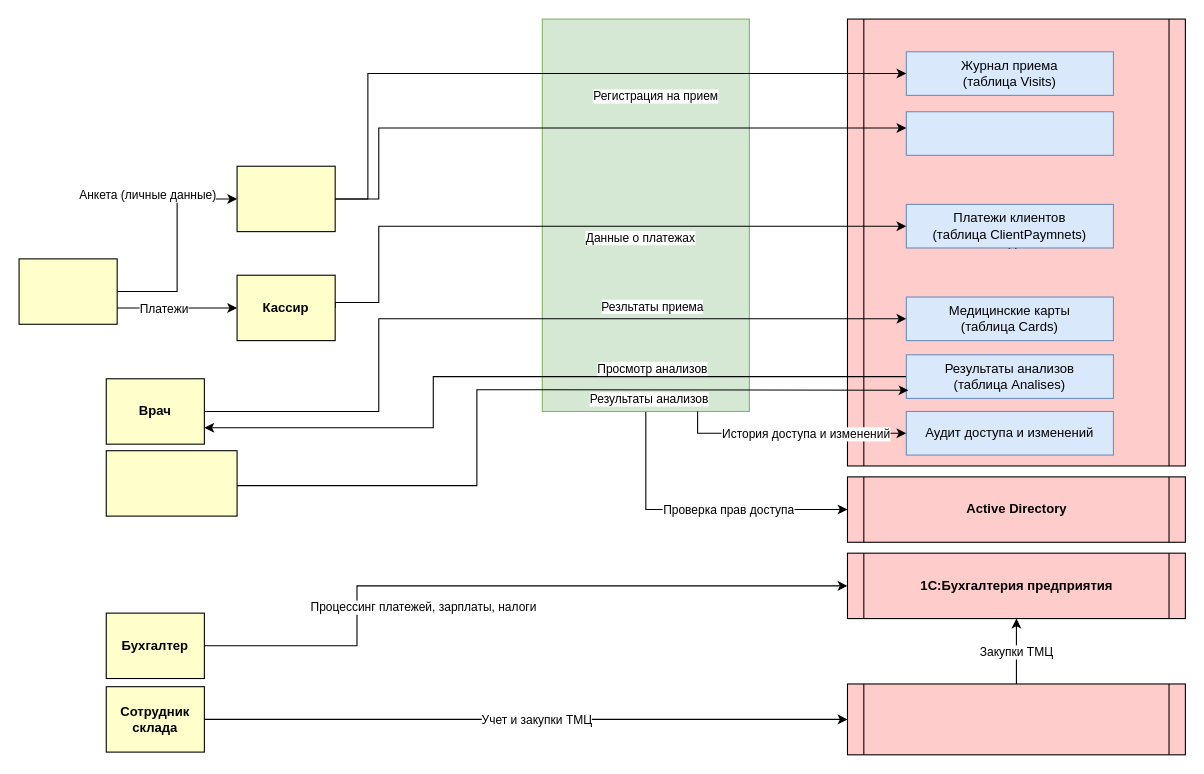
This 1204x774 diagram has some shape labels left out. Here are the shapes that lost their labels. From the top down, the box of each, then its label:
(905, 111, 1113, 155): Пациенты (таблица Clients)
(236, 165, 335, 232): Сотрудник ресепшна
(541, 18, 749, 411): Интерфейс досутпа
(18, 258, 117, 324): Пациент
(105, 450, 237, 516): Мед.лаборатория
(846, 683, 1185, 755): 1С:Торговля и склад
